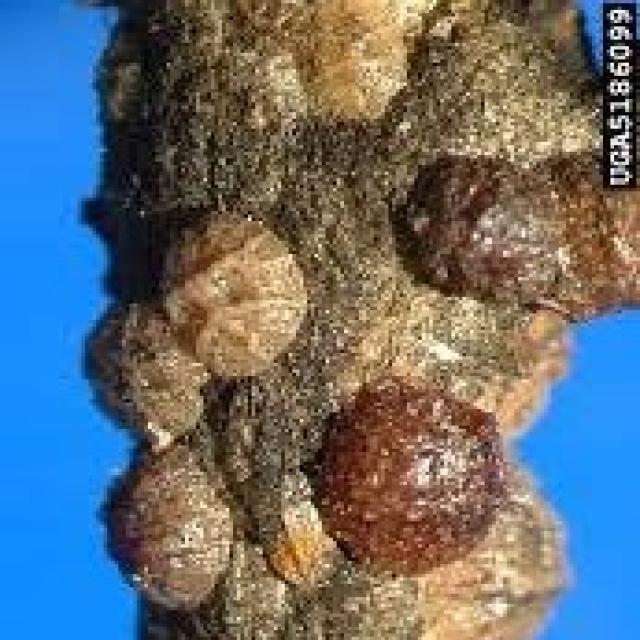BlackScale: (92, 221, 304, 637), (307, 376, 488, 574), (396, 155, 548, 297)
